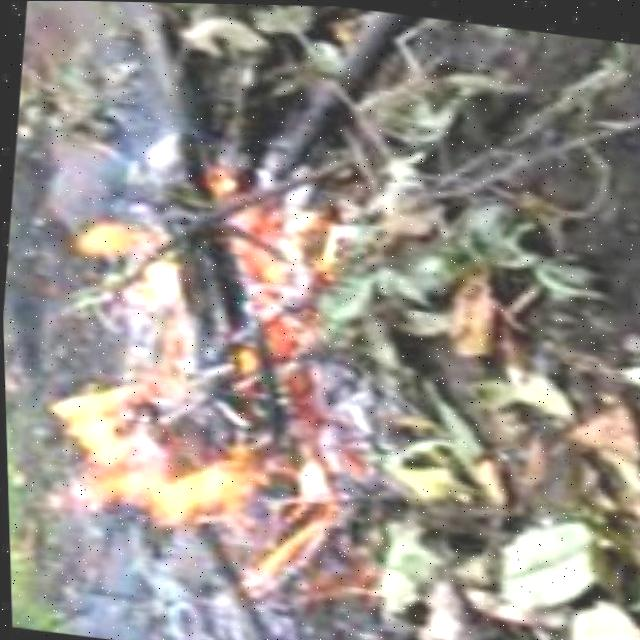fire: (38, 163, 353, 597)
